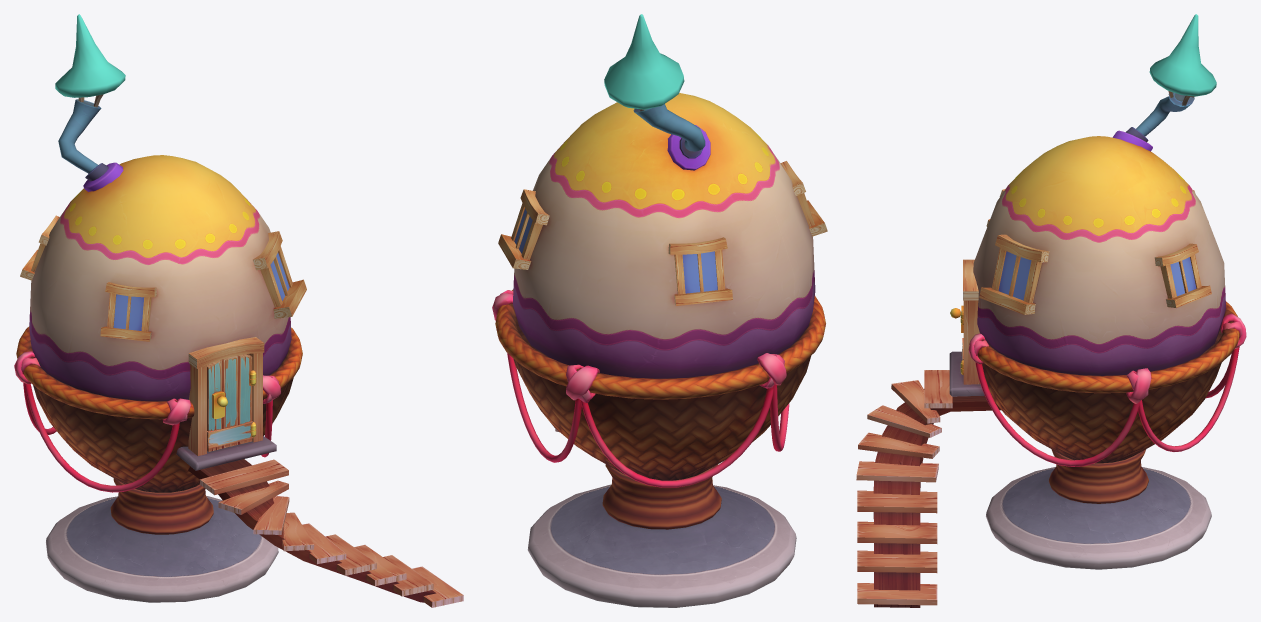
The model's file is SE_House_05a.fbx.
3 views of the same model, side by side, from view 1: azimuth 30°, elevation 25°; view 2: azimuth 150°, elevation 25°; view 3: azimuth 270°, elevation 25° (orthographic). The views are drawn at different scales.
Parts seen in each view (by area): view 1: SE_House_05a; view 2: SE_House_05a; view 3: SE_House_05a.
Boxes of the visible parts, x1,y1,x2,y2 form: SE_House_05a: (14, 14, 463, 607); SE_House_05a: (492, 14, 827, 607); SE_House_05a: (856, 14, 1246, 607).
Bounding box in the file's own units: 9.03 × 14.75 × 10.42.
